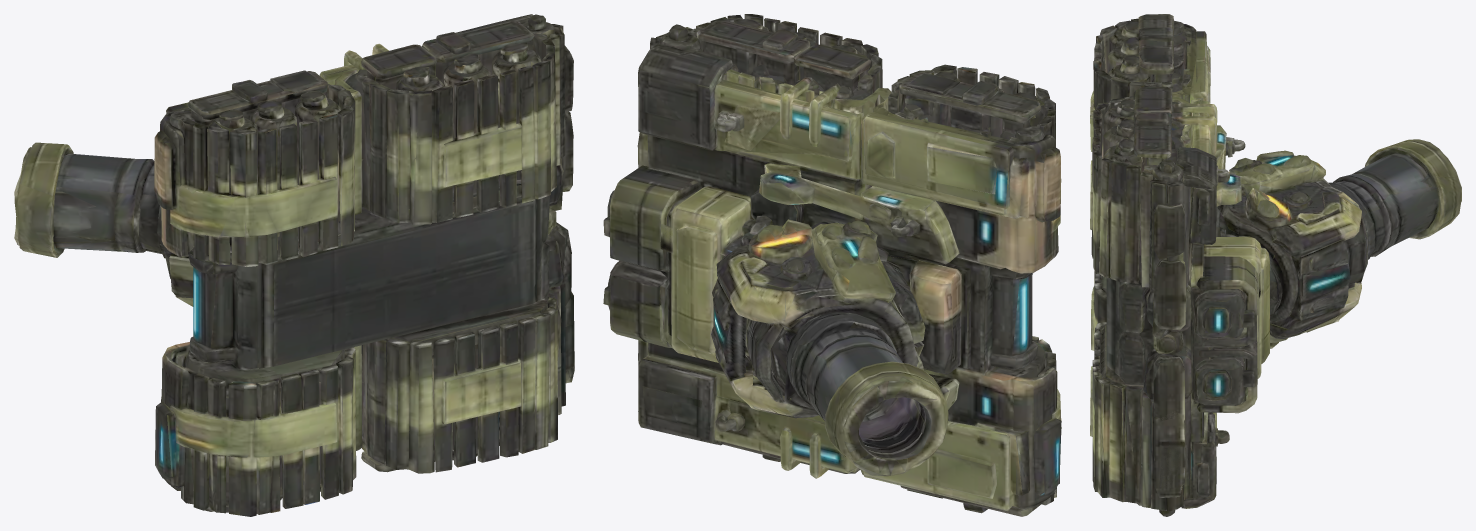
File: model-normalized-review.glb
3 views of the same model, side by side, from view 1: azimuth 30°, elevation 25°; view 2: azimuth 150°, elevation 25°; view 3: azimuth 270°, elevation 25° (orthographic). The views are drawn at different scales.
Visible parts, largest first — view 1: chassis; view 2: chassis; view 3: chassis.
Part boxes in pixels (box(x1,y1,x2,y2)): chassis: box(14, 14, 574, 516); chassis: box(603, 14, 1061, 516); chassis: box(1090, 14, 1461, 516).
Size of the model in its own units: 0.99 by 0.9301 by 0.8604.
1 material, 1 textured.
